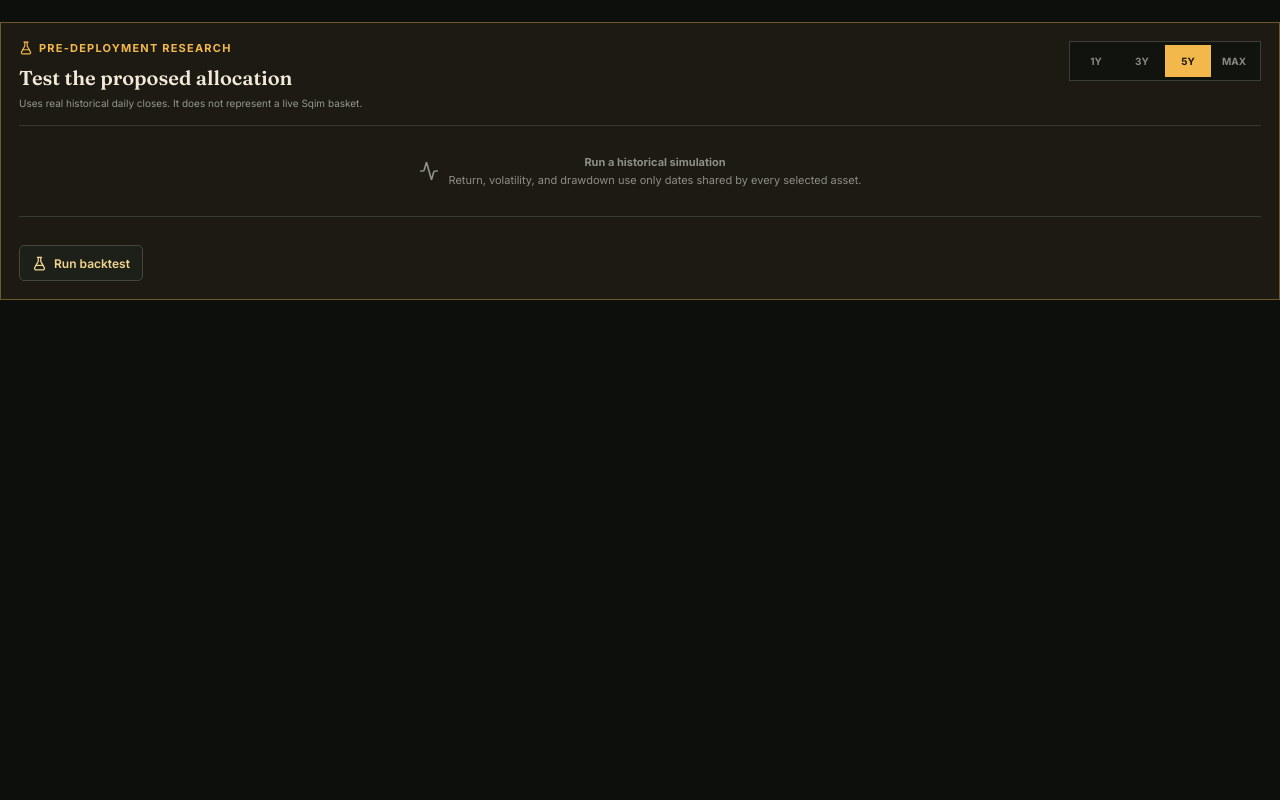
historical performance boundaries › runs the creator simulation without presenting it as deployment history
What coordinates should you click on to do the following:
click the button "Run backtest"
I would click on:
 (81, 263)
Its box is [19,245,143,281].
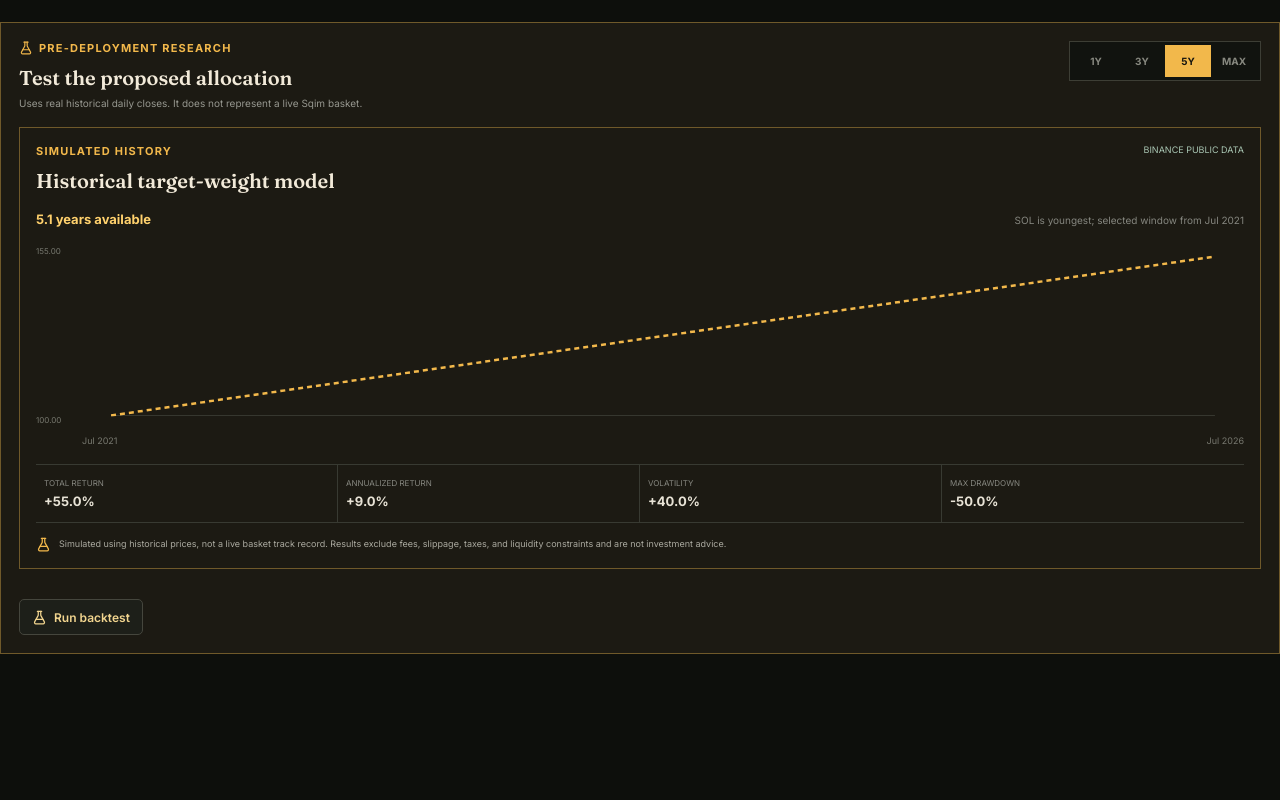
Check: the text "5.1 years available" is shown, box [36,211,151,227]
Check: the text "SOL is youngest; selected window from Jul 2021" is shown, box [1015,214,1244,226]
